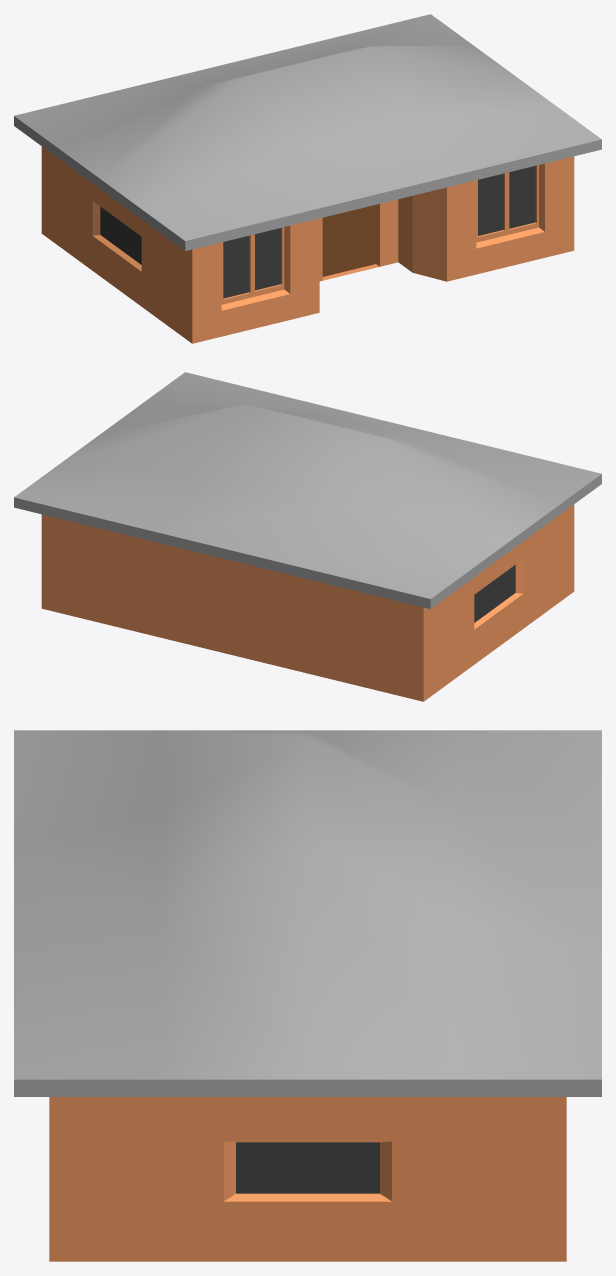
Rendered from House4.fbx.
3 renders of one model, top to bottom at view 1: azimuth 30°, elevation 25°; view 2: azimuth 150°, elevation 25°; view 3: azimuth 270°, elevation 25°, orthographic. The views are drawn at different scales.
Visible parts, largest first — view 1: House_4; view 2: House_4; view 3: House_4.
Boxes of the visible parts, bbox=[...] form: House_4: bbox=[14, 14, 601, 343]; House_4: bbox=[14, 372, 601, 701]; House_4: bbox=[14, 730, 601, 1261].
Bounding box in the file's own units: 1333 × 551 × 948.
